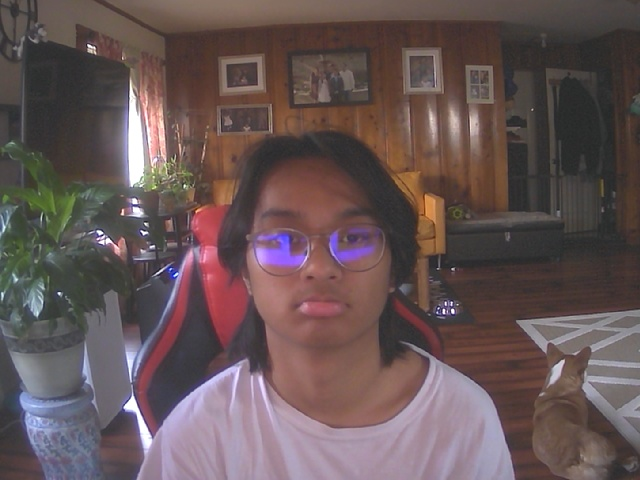sad: (239, 139, 404, 363)
